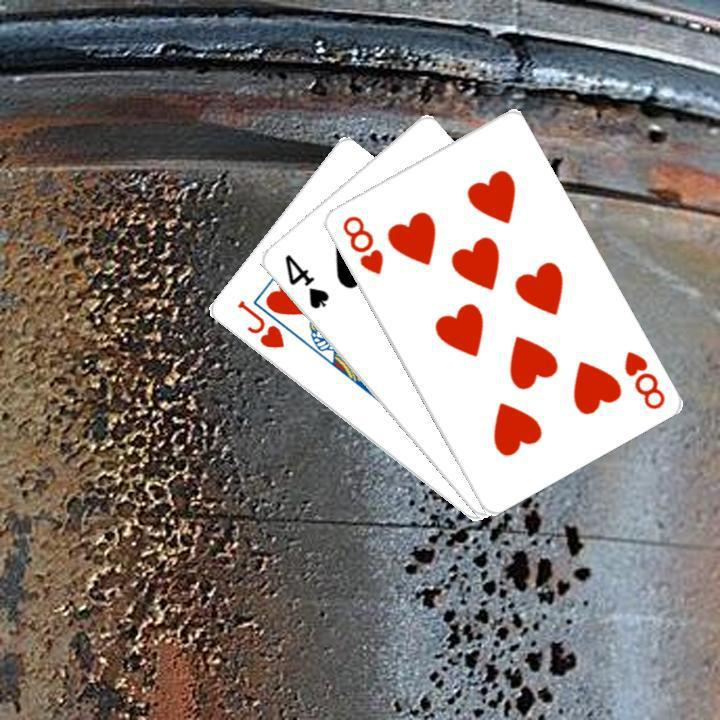4: (279, 250, 331, 311)
8: (337, 210, 385, 277), (619, 346, 667, 412)
J: (232, 296, 286, 351)
